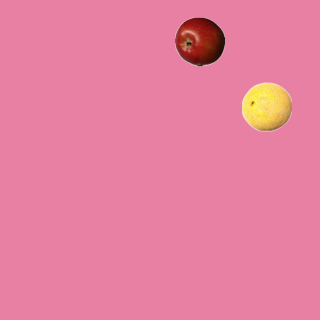Apple Braeburn: (174, 16, 224, 66)
Cantaloupe 1: (241, 81, 291, 131)
